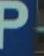Parking: (0, 0, 33, 55)
